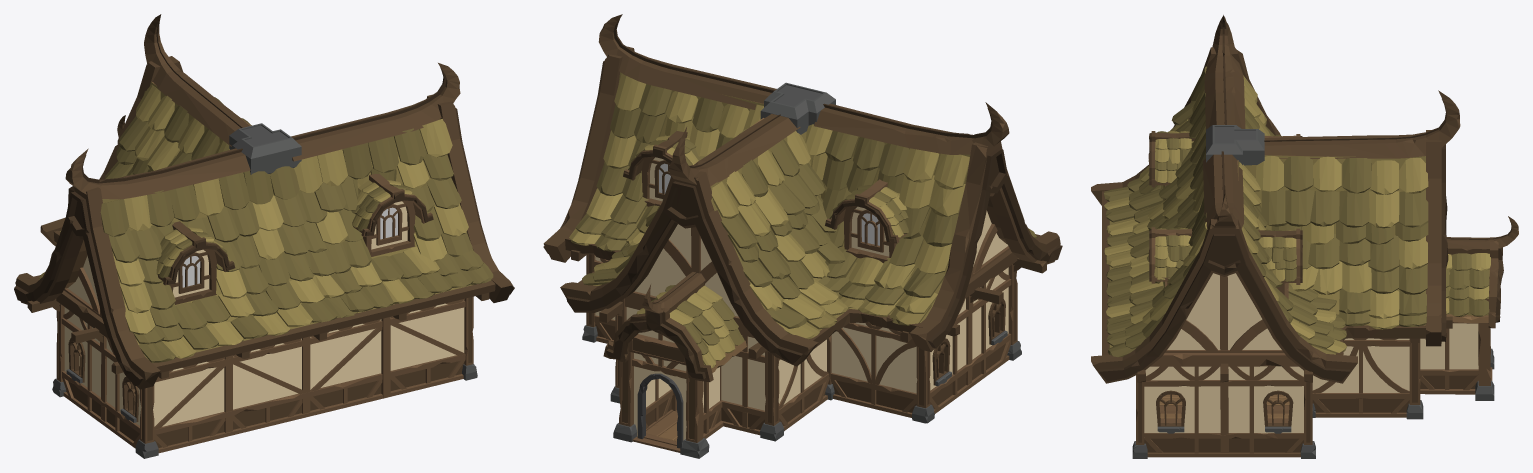
The model's file is BD_AlchemistWS.fbx.
3 views of the same model, side by side, from view 1: azimuth 30°, elevation 25°; view 2: azimuth 150°, elevation 25°; view 3: azimuth 270°, elevation 25° (orthographic). The views are drawn at different scales.
Parts seen in each view (by area): view 1: BD_AlchemistWS; view 2: BD_AlchemistWS; view 3: BD_AlchemistWS.
Part boxes in pixels (x1,y1,x2,y2): BD_AlchemistWS: (14, 14, 514, 458); BD_AlchemistWS: (543, 14, 1062, 458); BD_AlchemistWS: (1091, 15, 1518, 458).
Bounding box in the file's own units: 1460 × 1045 × 1398.
